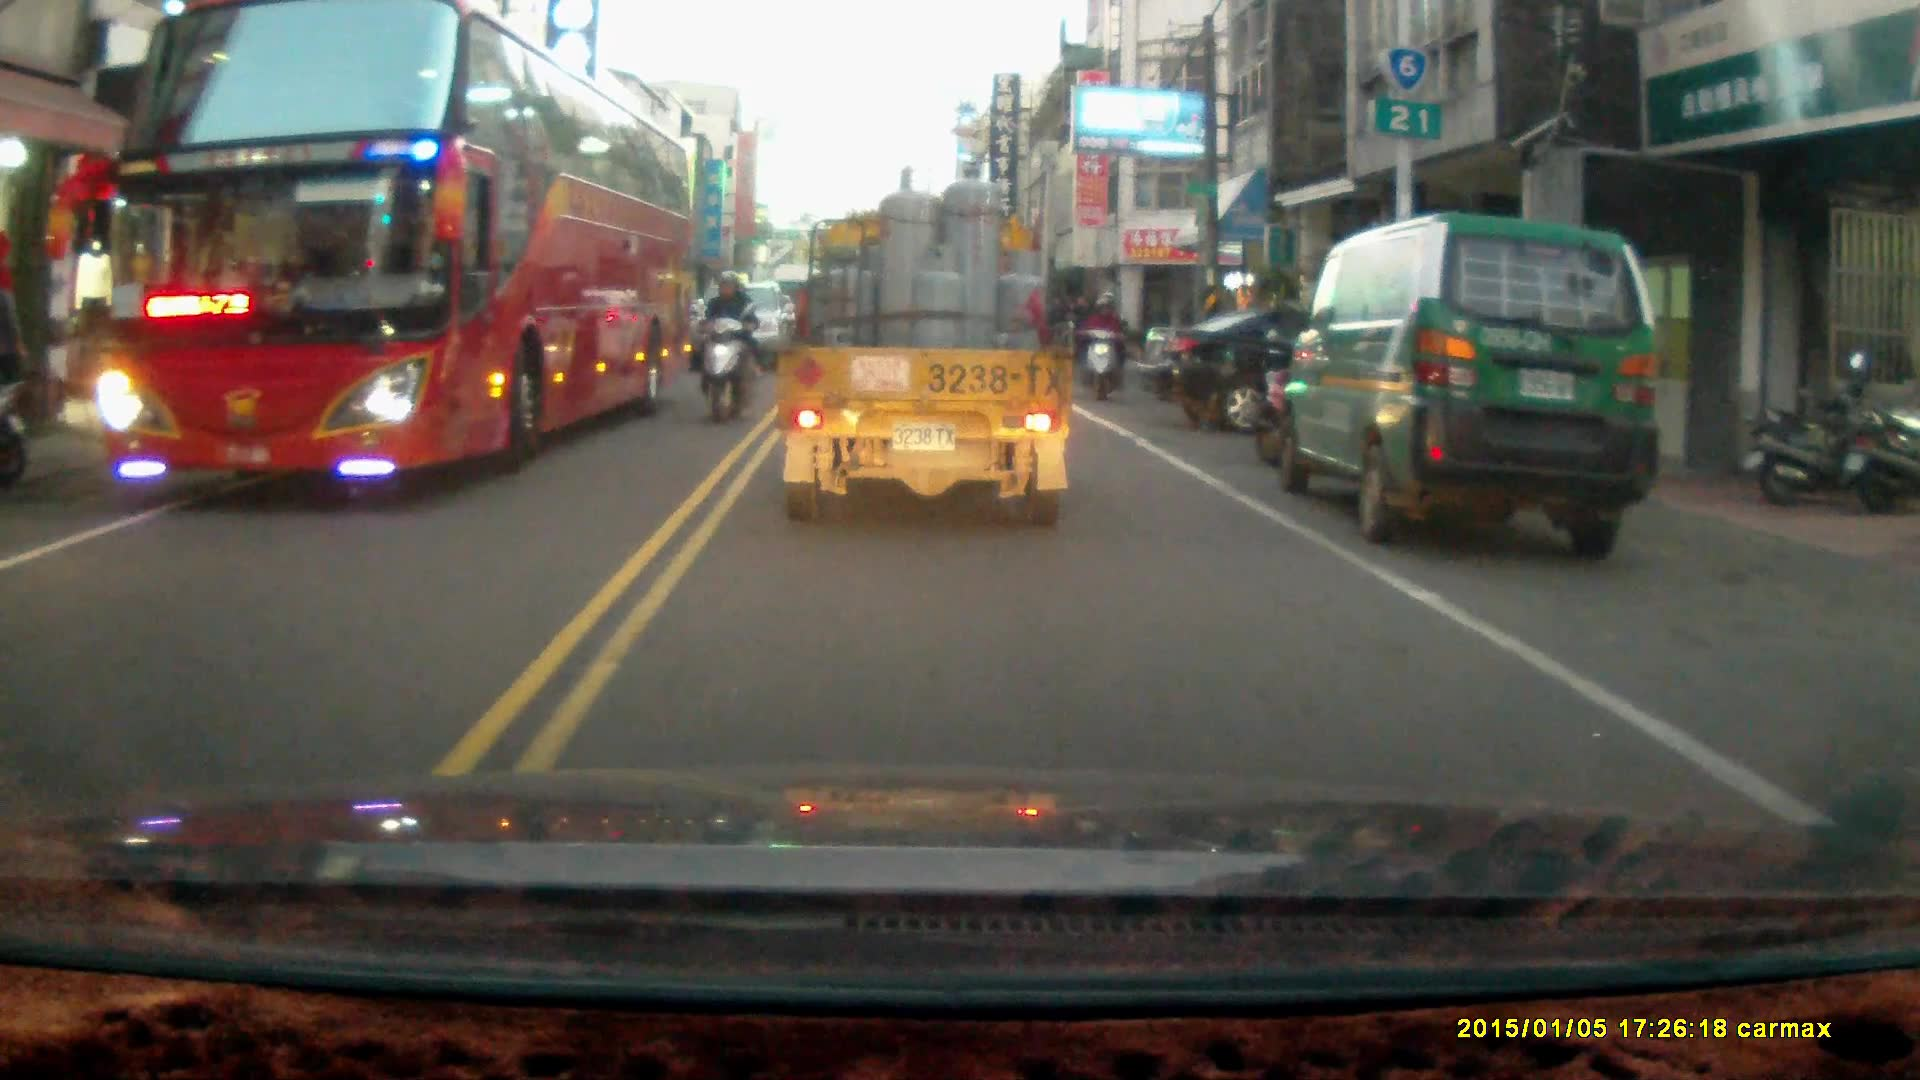rider: (686, 267, 759, 423), (1077, 290, 1129, 401)
vehicle: (99, 24, 703, 485), (1280, 207, 1665, 554), (779, 158, 1074, 529), (1140, 304, 1488, 433), (684, 277, 804, 375)
